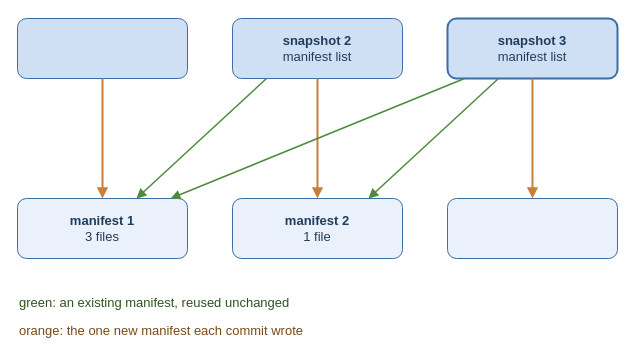
Some shapes in this 636 by 359 pixel diagram are drawn without their labels. Here are the shapes that lost their labels. From the top down, the box of each, then its label:
(16, 18, 188, 78): snapshot 1 manifest list
(446, 198, 618, 258): manifest 3 1 file
